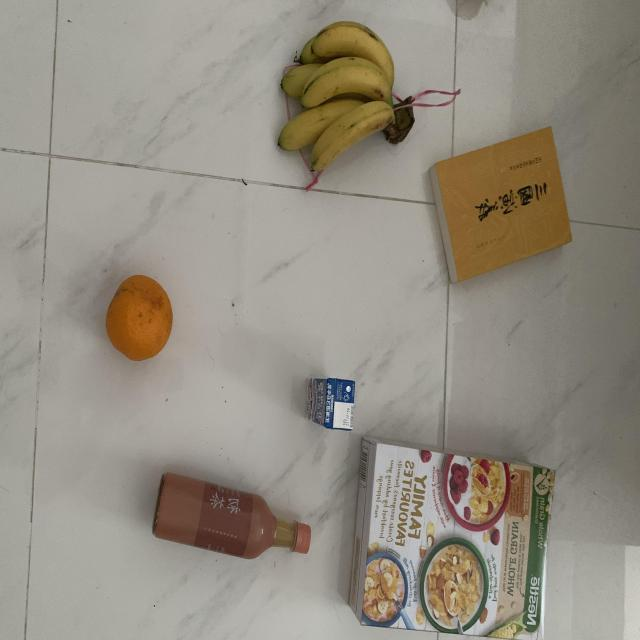banana: (269, 20, 417, 173)
orange: (101, 272, 175, 366)
